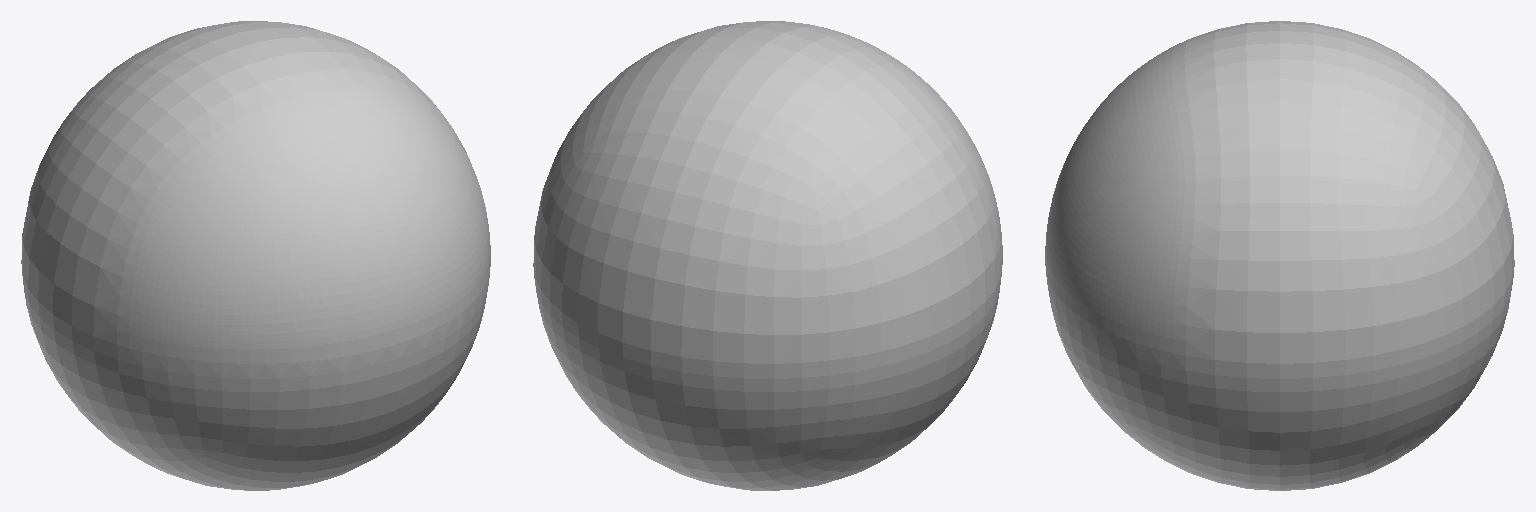
Rendered from original_bomb.obj.
3 views of the same model, side by side, from view 1: azimuth 30°, elevation 25°; view 2: azimuth 150°, elevation 25°; view 3: azimuth 270°, elevation 25° (orthographic).
Parts seen in each view (by area): view 1: vsn_mesh_0_pm0100_00_Skin, vsn_mesh_1_pm0100_00_Skin; view 2: vsn_mesh_0_pm0100_00_Skin; view 3: vsn_mesh_0_pm0100_00_Skin, vsn_mesh_1_pm0100_00_Skin.
Boxes of the visible parts, <box> form: vsn_mesh_0_pm0100_00_Skin: <box>21,21,490,490</box>; vsn_mesh_1_pm0100_00_Skin: <box>187,149,484,363</box>; vsn_mesh_0_pm0100_00_Skin: <box>533,21,1002,490</box>; vsn_mesh_0_pm0100_00_Skin: <box>1045,21,1514,490</box>; vsn_mesh_1_pm0100_00_Skin: <box>1045,81,1146,334</box>.
Bounding box in the file's own units: 19.56 × 19.64 × 19.57.